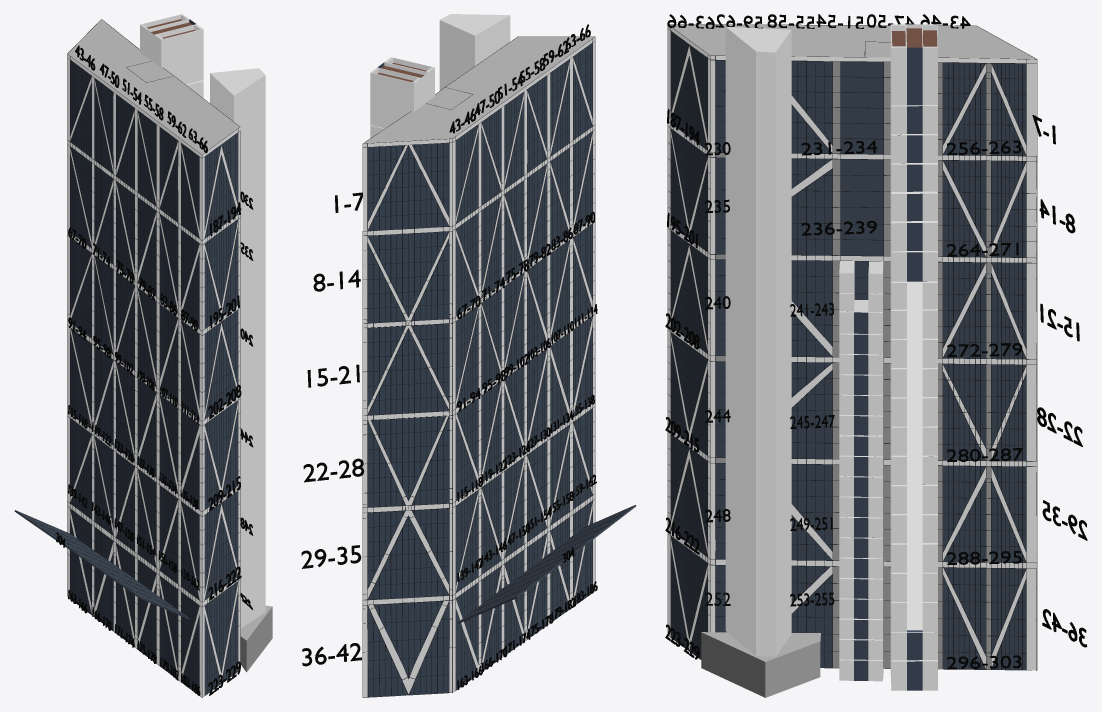
Rendered from BroadgateTower.glb.
3 renders of one model, left to right at view 1: azimuth 30°, elevation 25°; view 2: azimuth 150°, elevation 25°; view 3: azimuth 270°, elevation 25°, orthographic. The views are drawn at different scales.
Visible parts, largest first — view 1: Broadgate Tower, Building, Drop304, Plane.003, Drop223, Drop94, Drop70, Drop68, Drop92, Drop195, Drop202, Drop67 (+28 smaller); view 2: Broadgate Tower, Building, Drop304, Plane.003, Drop28, Drop36, Drop22, Drop14, Drop8, Drop9, Drop16, Drop10 (+35 smaller); view 3: Broadgate Tower, Building, Drop239, Drop234, Drop247, Drop237, Drop250, Drop246, Drop242, Drop251, Drop238, Drop233 (+56 smaller).
Boxes of the visible parts, x1,y1,x2,y2 form: Broadgate Tower: [67, 14, 272, 697]; Building: [67, 19, 240, 697]; Drop304: [15, 511, 189, 619]; Plane.003: [14, 510, 189, 619]; Drop223: [204, 602, 209, 695]; Drop94: [86, 250, 91, 337]; Drop70: [86, 159, 91, 247]; Drop68: [75, 151, 80, 238]; Drop92: [75, 241, 80, 329]; Drop195: [204, 240, 209, 328]; Drop202: [204, 331, 209, 418]; Drop67: [70, 147, 75, 234]; Broadgate Tower: [363, 14, 594, 697]; Building: [362, 36, 595, 697]; Drop304: [457, 505, 635, 623]; Plane.003: [458, 505, 635, 623]; Drop28: [438, 416, 449, 503]; Drop36: [367, 604, 379, 697]; Drop22: [367, 420, 378, 507]; Drop14: [438, 231, 449, 319]; Drop8: [367, 235, 378, 323]; Drop9: [379, 234, 390, 322]; Drop16: [379, 327, 390, 414]; Drop10: [391, 234, 402, 321]; Broadgate Tower: [668, 24, 1036, 697]; Building: [667, 24, 1037, 670]; Drop239: [840, 159, 883, 255]; Drop234: [840, 61, 883, 154]; Drop247: [815, 362, 832, 458]; Drop237: [798, 158, 815, 255]; Drop250: [798, 464, 815, 560]; Drop246: [798, 362, 815, 458]; Drop242: [798, 260, 815, 356]; Drop251: [815, 464, 832, 560]; Drop238: [815, 159, 832, 255]; Drop233: [815, 61, 832, 153].
Bounding box in the file's own units: 50.91 × 161 × 95.91.
